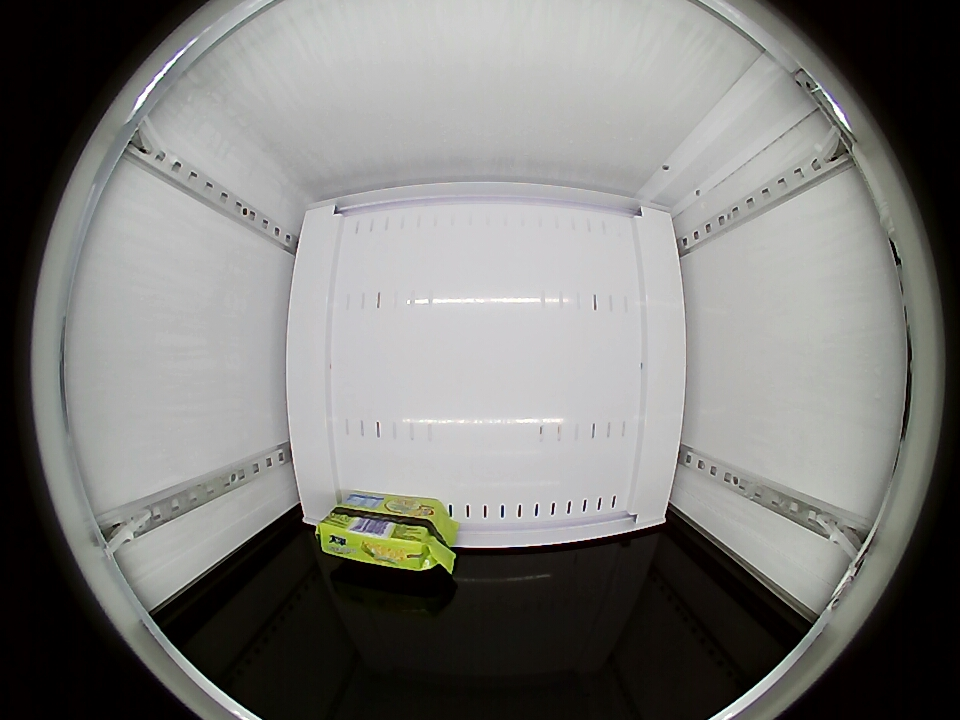taipingshuda: (316, 506, 449, 573)
